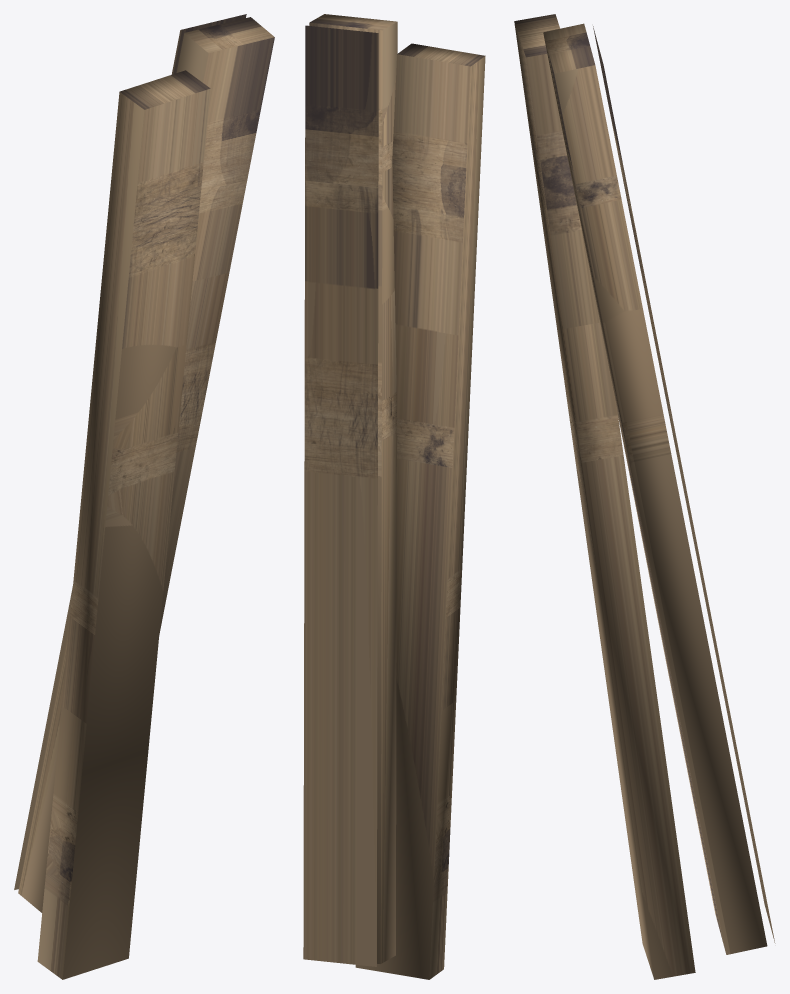
The model's file is Collection.fbx.
The picture shows the model from 3 angles, left to right: view 1: azimuth 30°, elevation 25°; view 2: azimuth 150°, elevation 25°; view 3: azimuth 270°, elevation 25°; orthographic projection. The views are drawn at different scales.
Parts seen in each view (by area): view 1: Planks; view 2: Planks; view 3: Planks.
Boxes of the visible parts, x1,y1,x2,y2 form: Planks: [14, 14, 274, 979]; Planks: [303, 14, 485, 979]; Planks: [514, 14, 775, 979].
Size of the model in its own units: 0.5412 by 2.81 by 0.689.
Materials: 1 (1 with a texture image).
